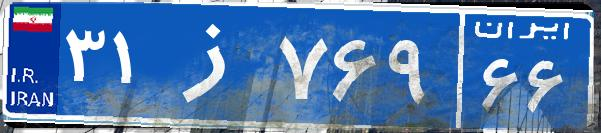1: (110, 28, 158, 105)
3: (57, 26, 110, 107)
6: (330, 28, 385, 110), (475, 38, 525, 113), (525, 38, 570, 115)
7: (273, 28, 330, 110)
9: (385, 28, 445, 110)
ز: (158, 15, 273, 115)
